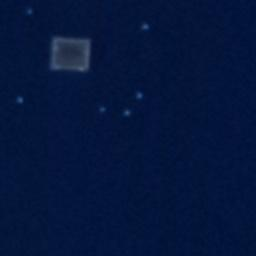square_cover: (48, 33, 94, 72)
